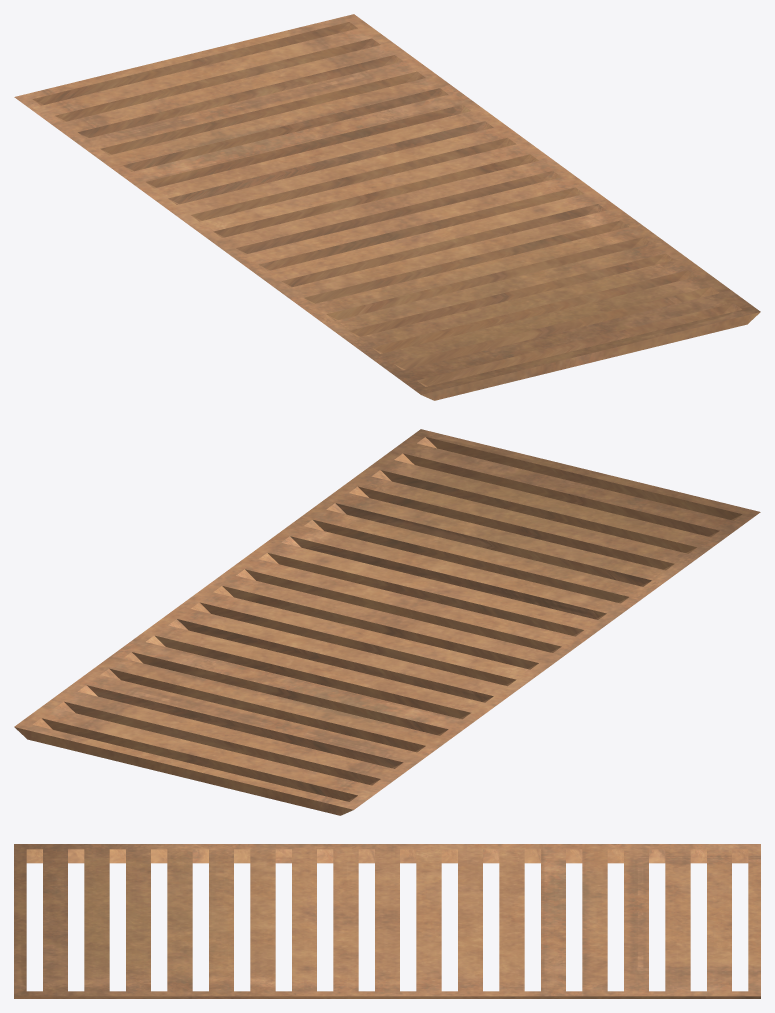
File: Small_Floorgrate_A.fbx
3 renders of one model, top to bottom at view 1: azimuth 30°, elevation 25°; view 2: azimuth 150°, elevation 25°; view 3: azimuth 270°, elevation 25°, orthographic. The views are drawn at different scales.
Parts seen in each view (by area): view 1: Small_Floorgrate_A; view 2: Small_Floorgrate_A; view 3: Small_Floorgrate_A.
Part boxes in pixels (bbox=[...]): Small_Floorgrate_A: bbox=[14, 14, 760, 400]; Small_Floorgrate_A: bbox=[14, 429, 760, 815]; Small_Floorgrate_A: bbox=[14, 844, 760, 998].
Size of the model in its own units: 1.93 by 0.0505 by 4.
